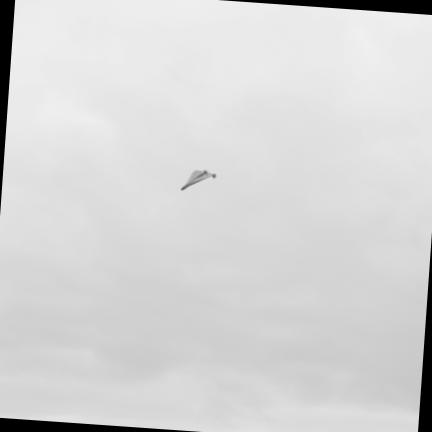Shahed: (181, 170, 214, 189)
